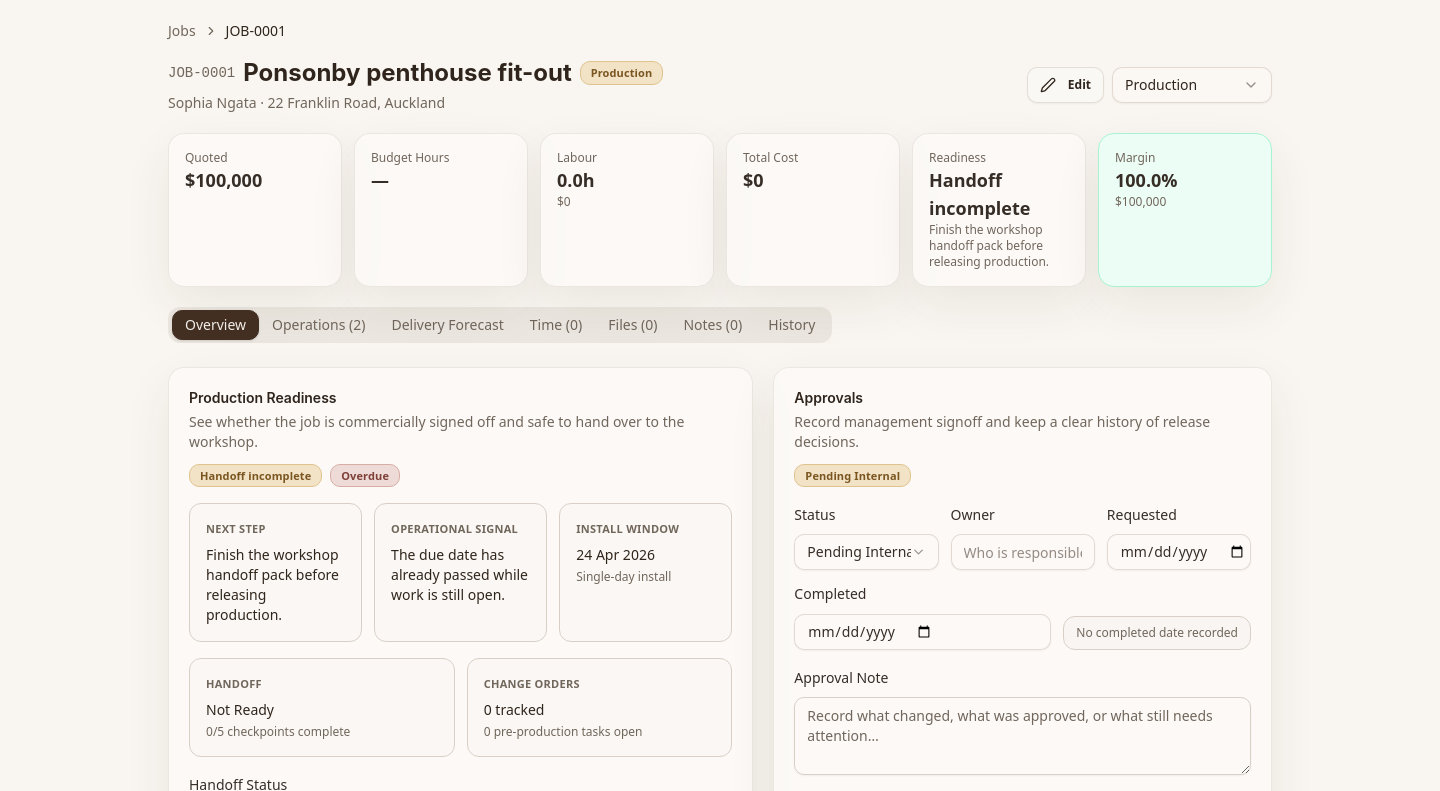
Test: JobDetail waterfall forecast › renders the delivery forecast tab with a projected completion date and task rows
Expected: the heading "Ponsonby penthouse fit-out" is shown, [243,57,572,89]
Click the tab "Delivery Forecast" at (448, 325), box [378,310,517,340]
(page scrolled)
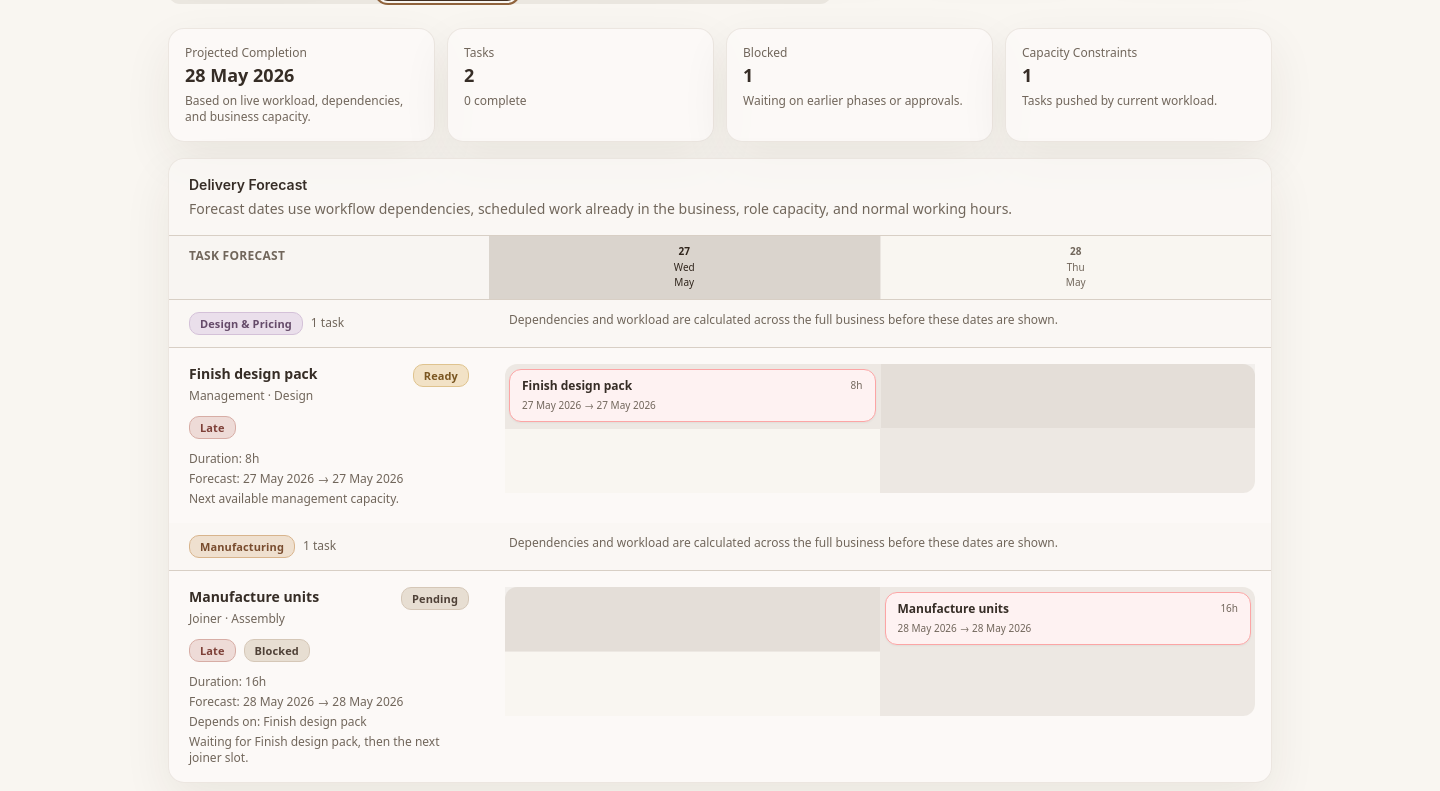
Expected: the element with test id "job-waterfall-view" is shown
Expected: the text "Projected Completion" is shown, [185,44,307,61]
Expected: the 1st text "Finish design pack" is shown, [189,364,318,384]
